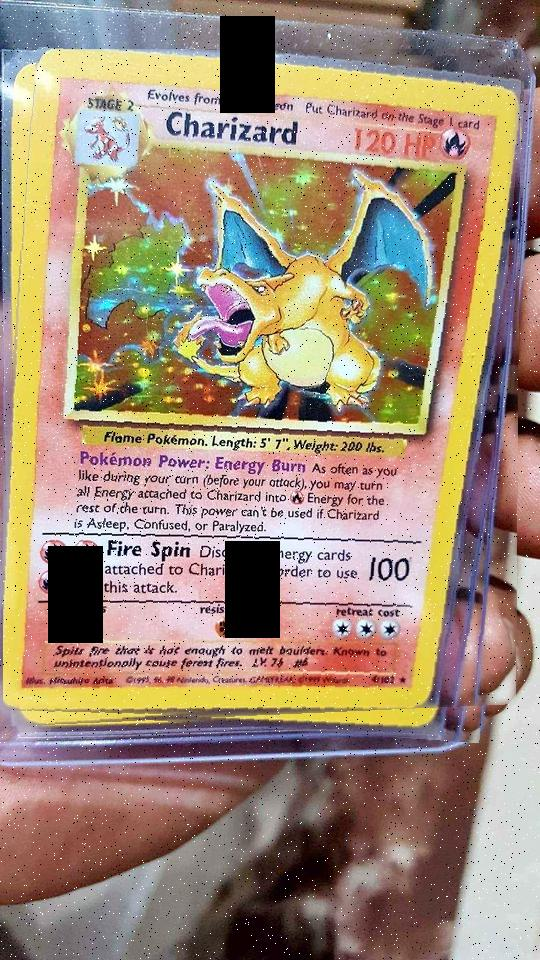card: (3, 49, 521, 711)
